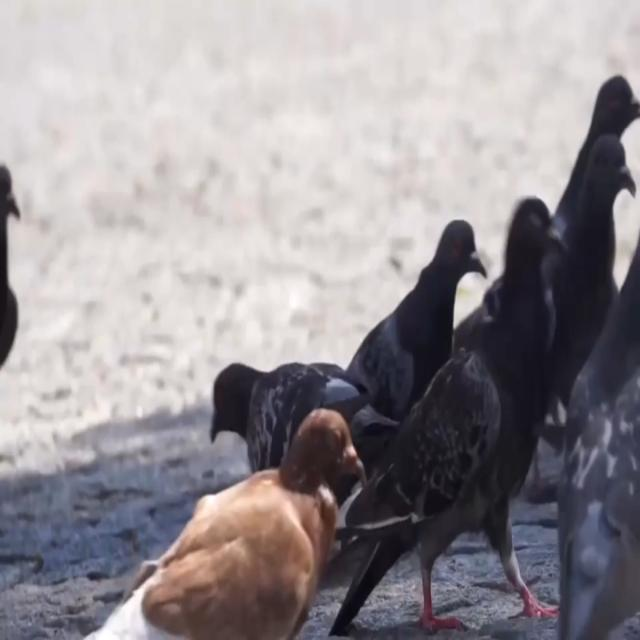bird: (377, 144, 559, 640), (90, 394, 368, 640), (189, 340, 397, 537), (342, 168, 490, 440), (545, 27, 640, 350), (570, 242, 640, 640), (562, 134, 639, 416), (0, 125, 34, 467)
